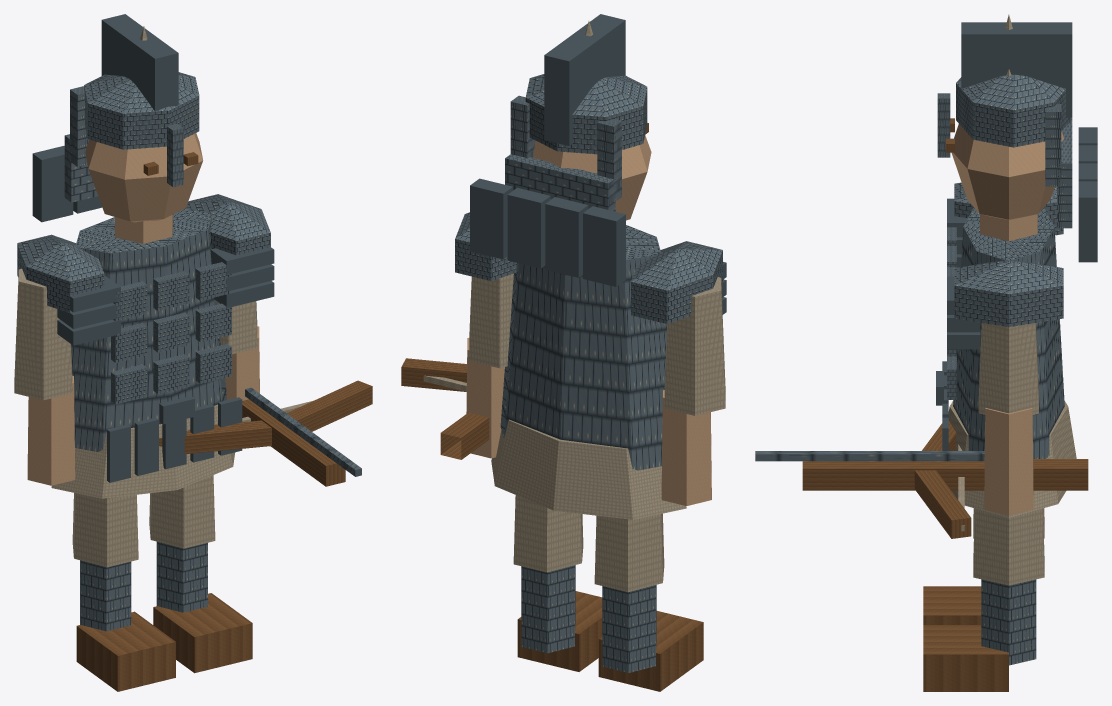
File: unit-CROSSBOW-lod0.glb
3 renders of one model, left to right at view 1: azimuth 30°, elevation 25°; view 2: azimuth 150°, elevation 25°; view 3: azimuth 270°, elevation 25°, orthographic. The views are drawn at different scales.
Bounding box in the file's own units: 0.2499 × 0.448 × 0.216.
Materials: 1 (1 with a texture image).
